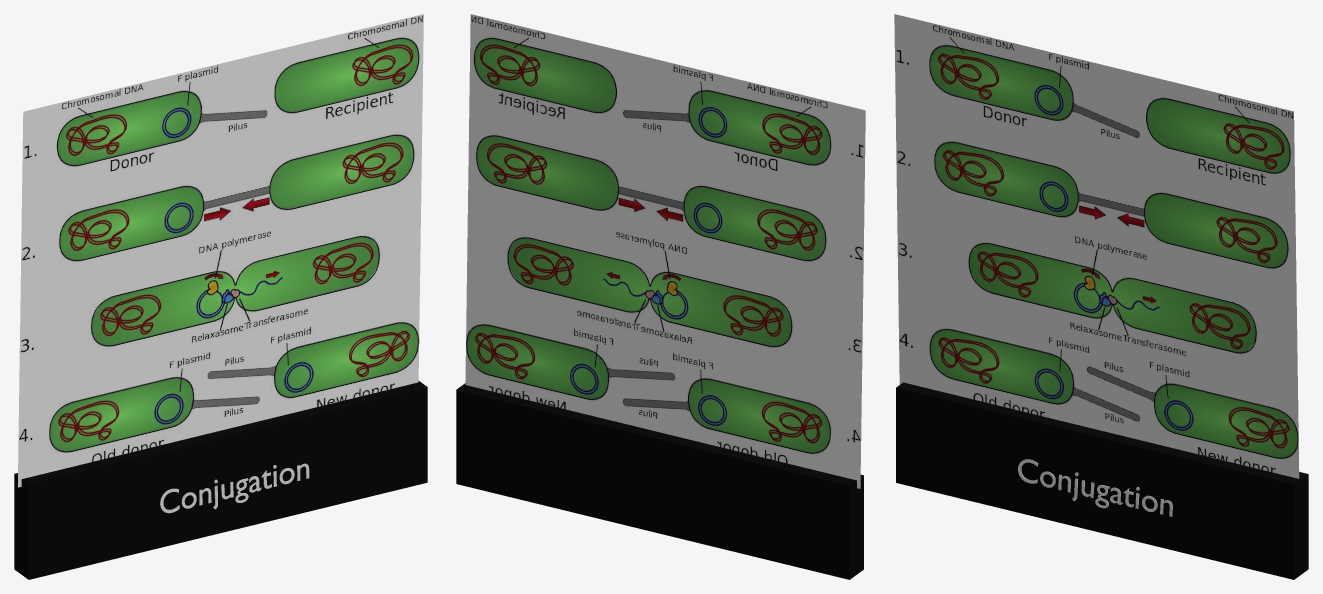
File: conjujubels.gltf
3 views of the same model, side by side, from view 1: azimuth 30°, elevation 25°; view 2: azimuth 150°, elevation 25°; view 3: azimuth 330°, elevation 25° (orthographic).
Visible parts, largest first — view 1: conjuju, Cube.009, Text.007; view 2: conjuju, Cube.009; view 3: conjuju, Cube.009, Text.007.
Part boxes in pixels (x1=…): conjuju: x1=18, y1=14, x2=423, y2=487; Cube.009: x1=14, y1=381, x2=427, y2=579; Text.007: x1=160, y1=463, x2=309, y2=513; conjuju: x1=465, y1=14, x2=865, y2=488; Cube.009: x1=456, y1=383, x2=863, y2=579; conjuju: x1=894, y1=14, x2=1299, y2=478; Cube.009: x1=896, y1=382, x2=1308, y2=579; Text.007: x1=1018, y1=459, x2=1172, y2=516.
Size of the model in its own units: 3.37 by 3.74 by 0.2836.
2 materials, 1 textured.
